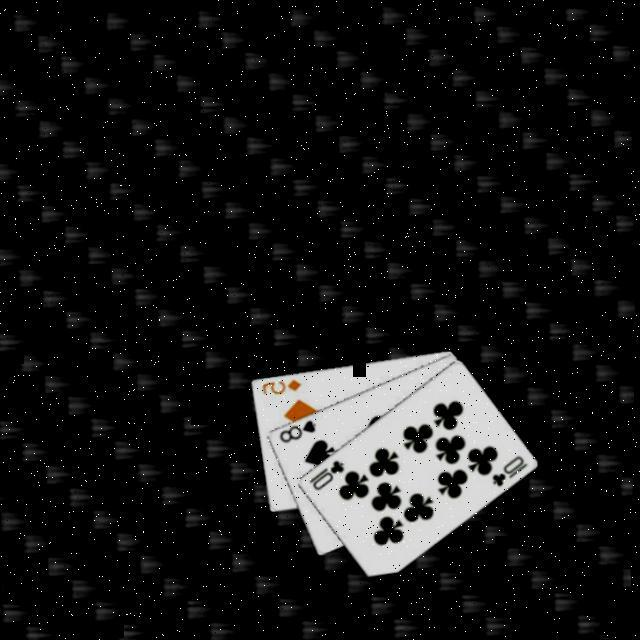10C: (307, 455, 350, 493), (490, 450, 533, 488)
5D: (261, 374, 306, 398)
8S: (278, 415, 321, 445)
